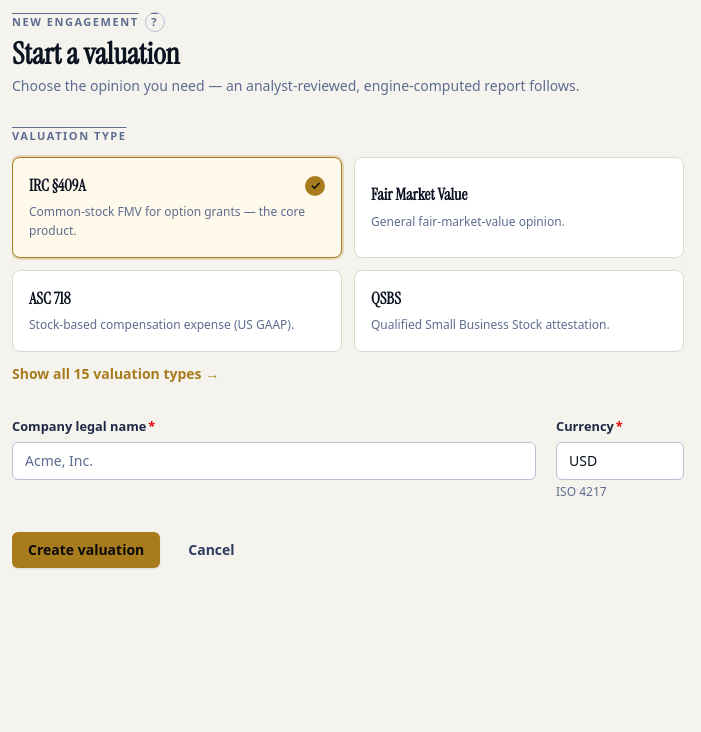
Scenario: NewValuationPage › shows only the featured kinds until asked for the rest
Expected: the button "IFRS 2" is not shown
Click the button "Show all 15 valuation types →" at (116, 374), box [12, 364, 219, 384]
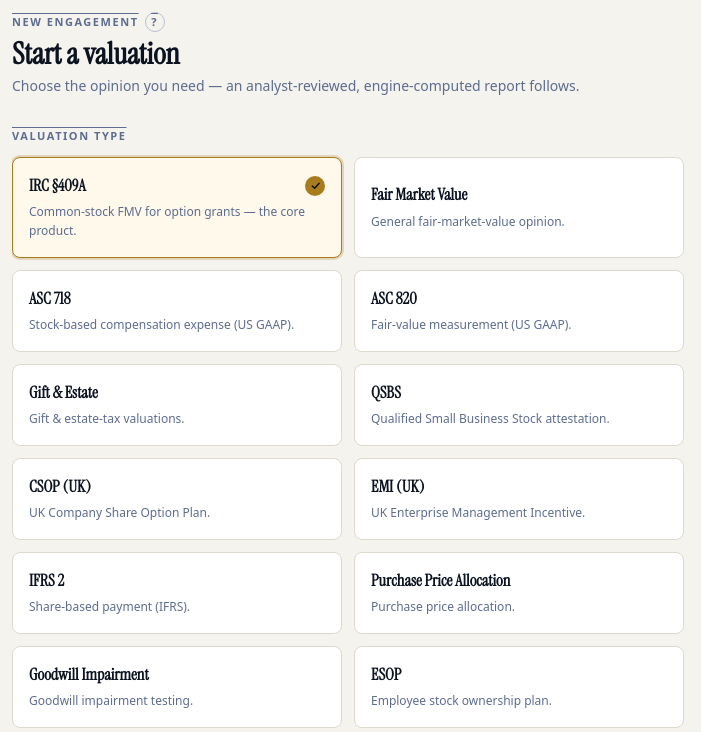
Expected: the button "IFRS 2 Share-based payment (IFRS)." is shown, [12, 552, 342, 634]
Expected: the button "Show all" is gone
